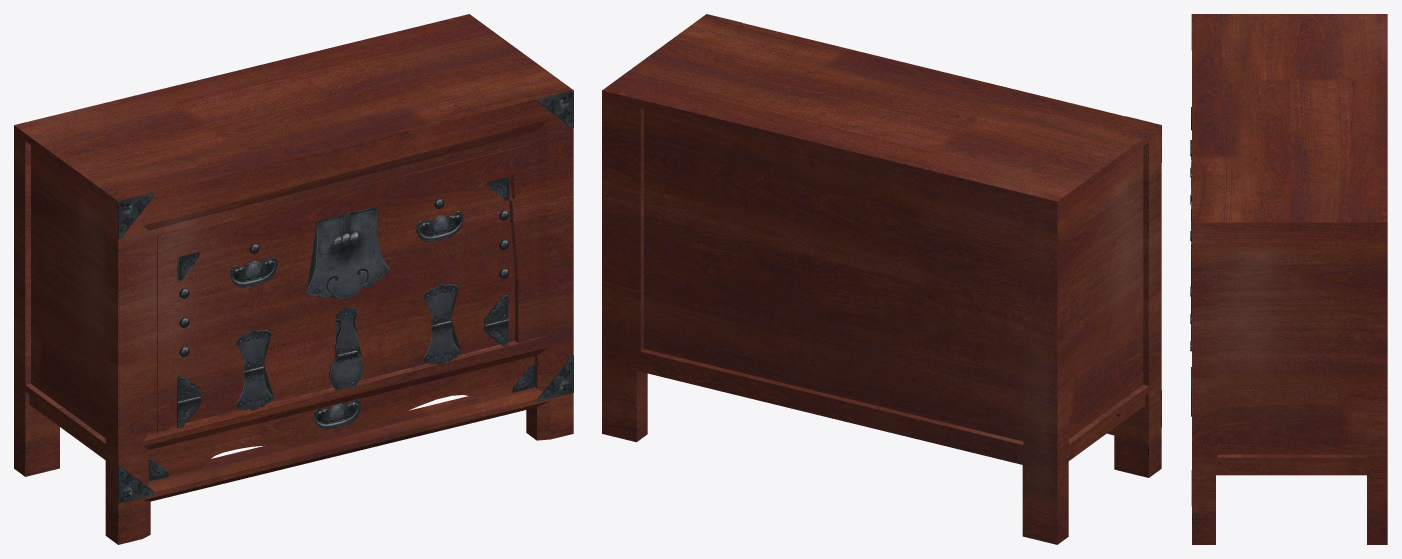
Rendered from Cabinet.FBX.
3 renders of one model, left to right at view 1: azimuth 30°, elevation 25°; view 2: azimuth 150°, elevation 25°; view 3: azimuth 270°, elevation 25°, orthographic. The views are drawn at different scales.
Visible parts, largest first — view 1: Cabinet; view 2: Cabinet; view 3: Cabinet.
Part boxes in pixels (bbox=[...]): Cabinet: bbox=[14, 14, 573, 544]; Cabinet: bbox=[602, 14, 1161, 544]; Cabinet: bbox=[1190, 14, 1387, 544].
Bounding box in the file's own units: 79.89 × 57.6 × 31.95.
